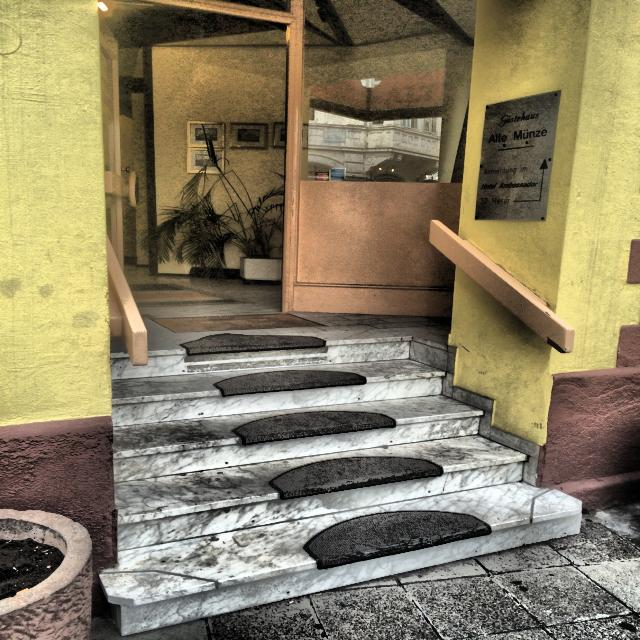escada: (83, 336, 589, 631)
